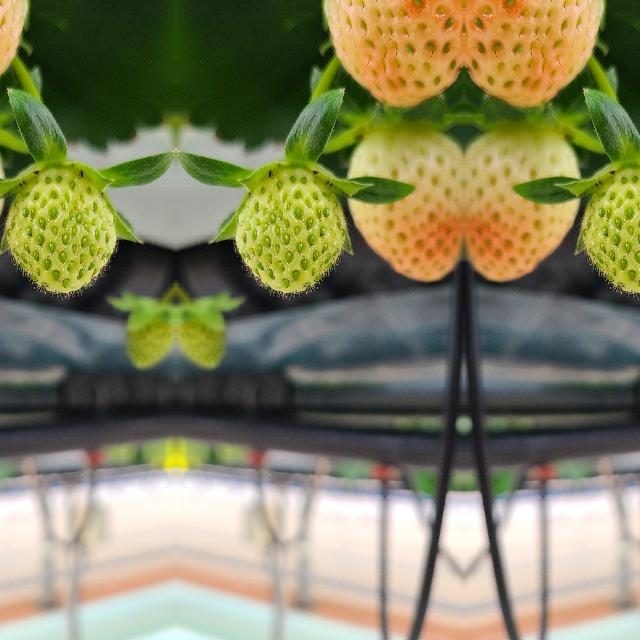Health_25: (235, 168, 345, 292), (5, 168, 115, 292), (581, 168, 640, 292)
Health_50: (343, 133, 463, 284), (463, 133, 583, 284), (315, 0, 463, 108), (463, 0, 611, 108), (0, 0, 35, 108)
